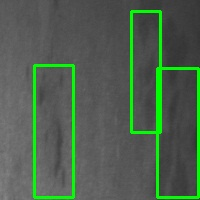inclusion: (157, 68, 198, 197), (34, 65, 73, 197), (131, 11, 160, 132)
